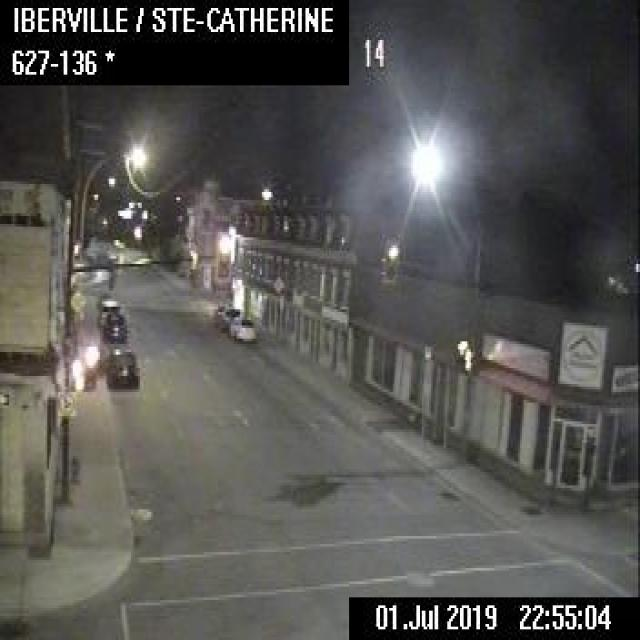vehicle: (104, 343, 138, 389), (95, 297, 121, 327), (227, 314, 255, 341), (213, 302, 239, 329), (102, 312, 126, 341)
